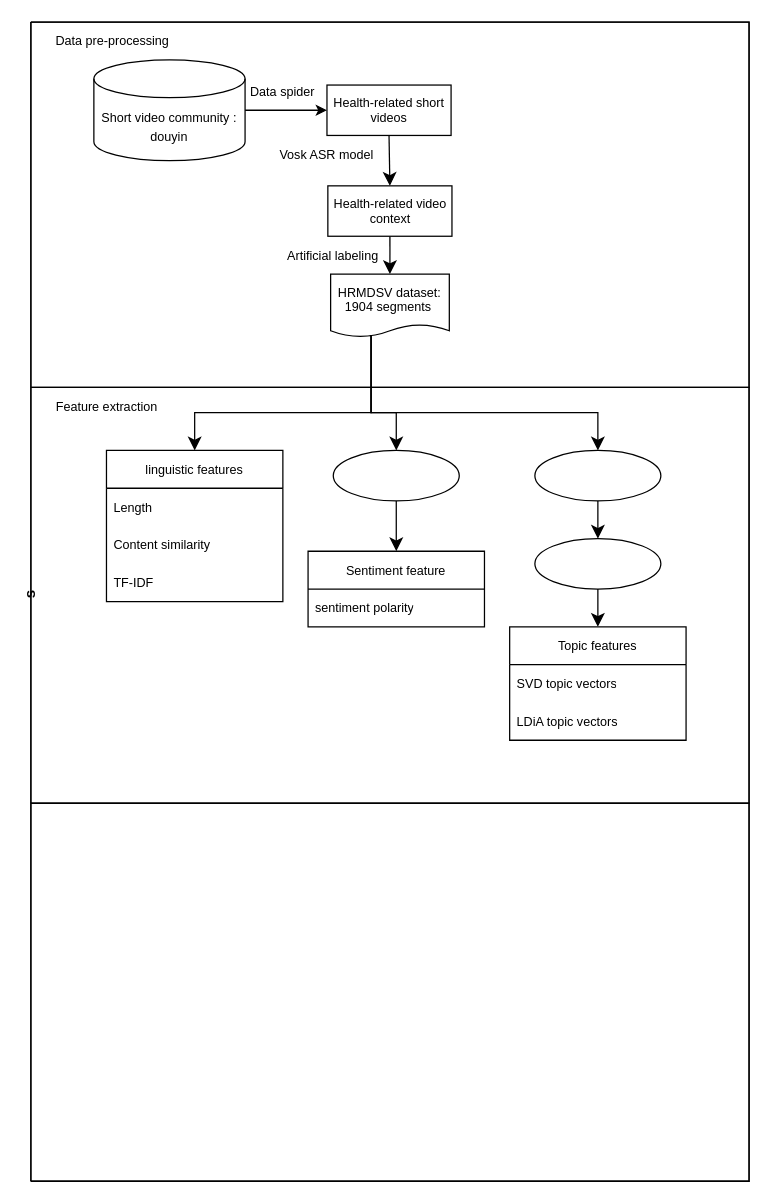
Some shapes in this 771 by 1203 pixel diagram are drawn without their labels. The centre of each missing label's shape, as x and y in pixels:
Model building: (x=389, y=991)
sentiment analysis: (x=395, y=475)
Text preparation: (x=597, y=475)
Topic modeling: (x=597, y=563)
